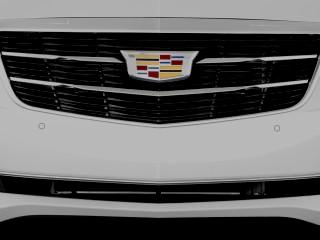cadillac: (112, 42, 204, 88)
